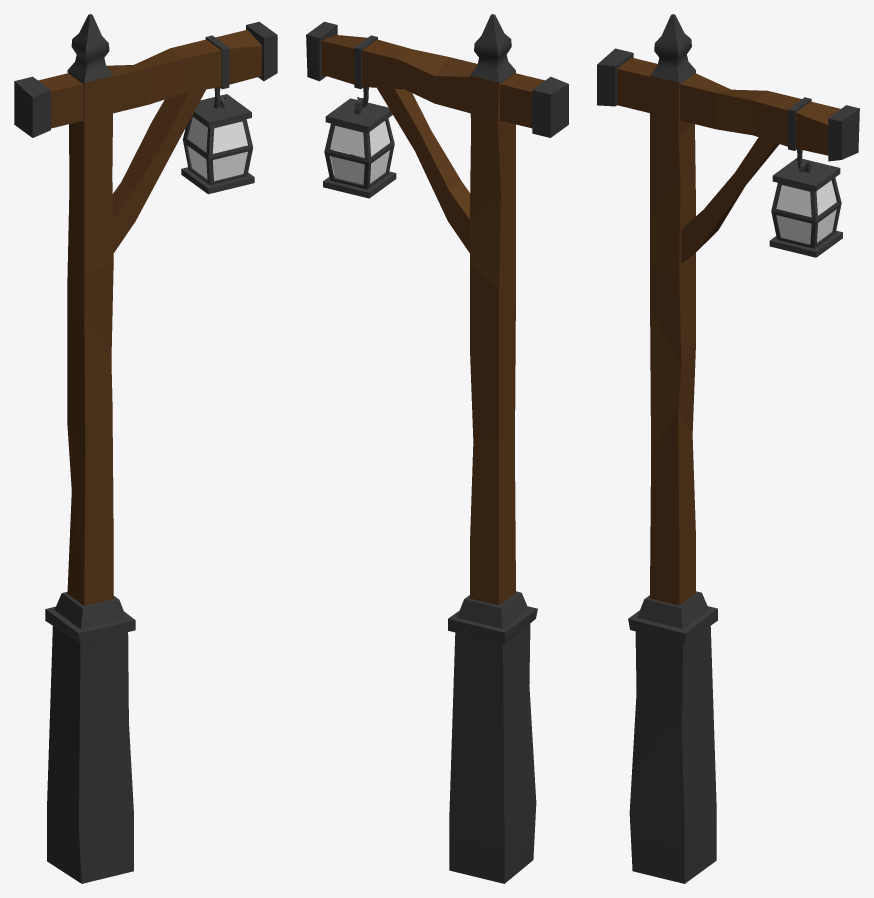
The model's file is lamp.glb.
3 views of the same model, side by side, from view 1: azimuth 30°, elevation 25°; view 2: azimuth 150°, elevation 25°; view 3: azimuth 330°, elevation 25° (orthographic).
Parts seen in each view (by area): view 1: lap_pole, light1111; view 2: lap_pole, light1111; view 3: lap_pole, light1111.
Boxes of the visible parts, x1,y1,x2,y2 form: lap_pole: [14, 14, 277, 883]; light1111: [187, 117, 247, 180]; lap_pole: [306, 14, 568, 883]; light1111: [330, 121, 390, 184]; lap_pole: [597, 14, 859, 883]; light1111: [776, 180, 836, 244].
Bounding box in the file's own units: 1.22 × 4.05 × 0.2844.
